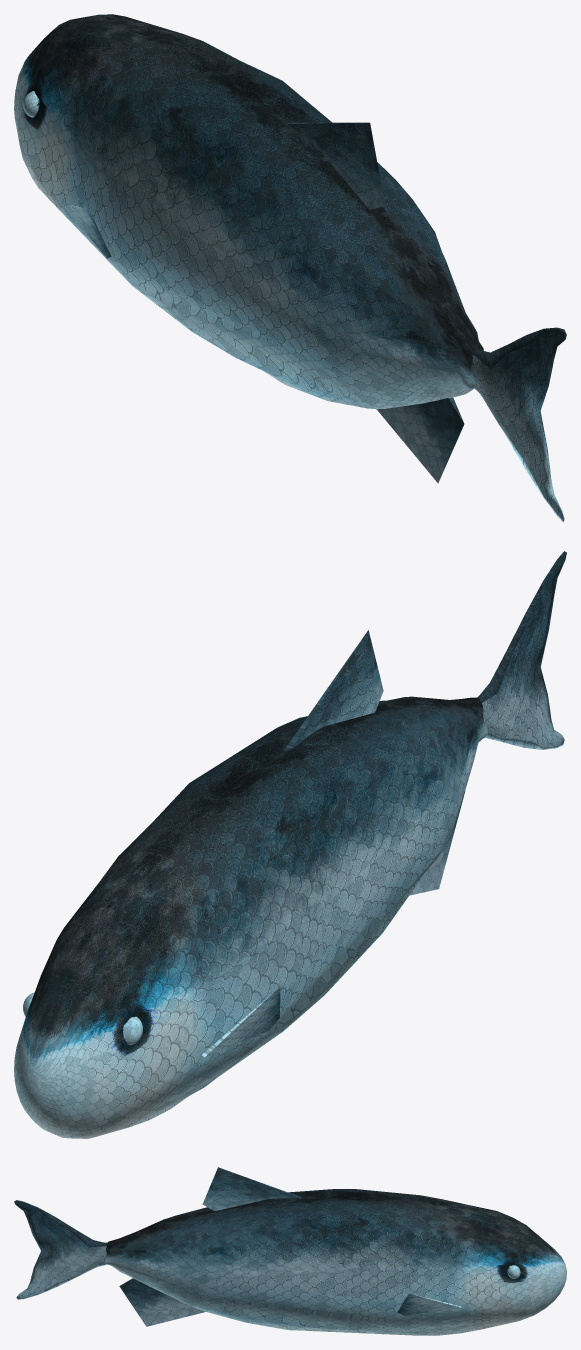
Rendered from fish.obj.
3 renders of one model, top to bottom at view 1: azimuth 30°, elevation 25°; view 2: azimuth 150°, elevation 25°; view 3: azimuth 270°, elevation 25°, orthographic. The views are drawn at different scales.
Parts seen in each view (by area): view 1: Body_Sphere.001, Tail_Plane.001, Top_Fin_Plane.003, Back_Fin_Plane.002, Side_Fin_Plane.004; view 2: Body_Sphere.001, Tail_Plane.001, Top_Fin_Plane.003, Side_Fin_Plane.004, Back_Fin_Plane.002; view 3: Body_Sphere.001, Tail_Plane.001, Top_Fin_Plane.003, Back_Fin_Plane.002, Side_Fin_Plane.004.
Part boxes in pixels (x1,y1,x2,y2): Body_Sphere.001: [14, 14, 483, 409]; Tail_Plane.001: [471, 327, 566, 522]; Top_Fin_Plane.003: [287, 122, 384, 209]; Back_Fin_Plane.002: [377, 397, 464, 483]; Side_Fin_Plane.004: [63, 204, 111, 258]; Body_Sphere.001: [14, 696, 487, 1138]; Tail_Plane.001: [476, 551, 566, 749]; Top_Fin_Plane.003: [284, 630, 383, 750]; Side_Fin_Plane.004: [202, 987, 280, 1057]; Back_Fin_Plane.002: [409, 791, 465, 895]; Body_Sphere.001: [103, 1189, 566, 1335]; Tail_Plane.001: [14, 1200, 107, 1299]; Top_Fin_Plane.003: [202, 1167, 302, 1211]; Back_Fin_Plane.002: [119, 1278, 205, 1326]; Side_Fin_Plane.004: [397, 1293, 461, 1315].
Size of the model in its own units: 0.6405 by 1.04 by 3.1.
